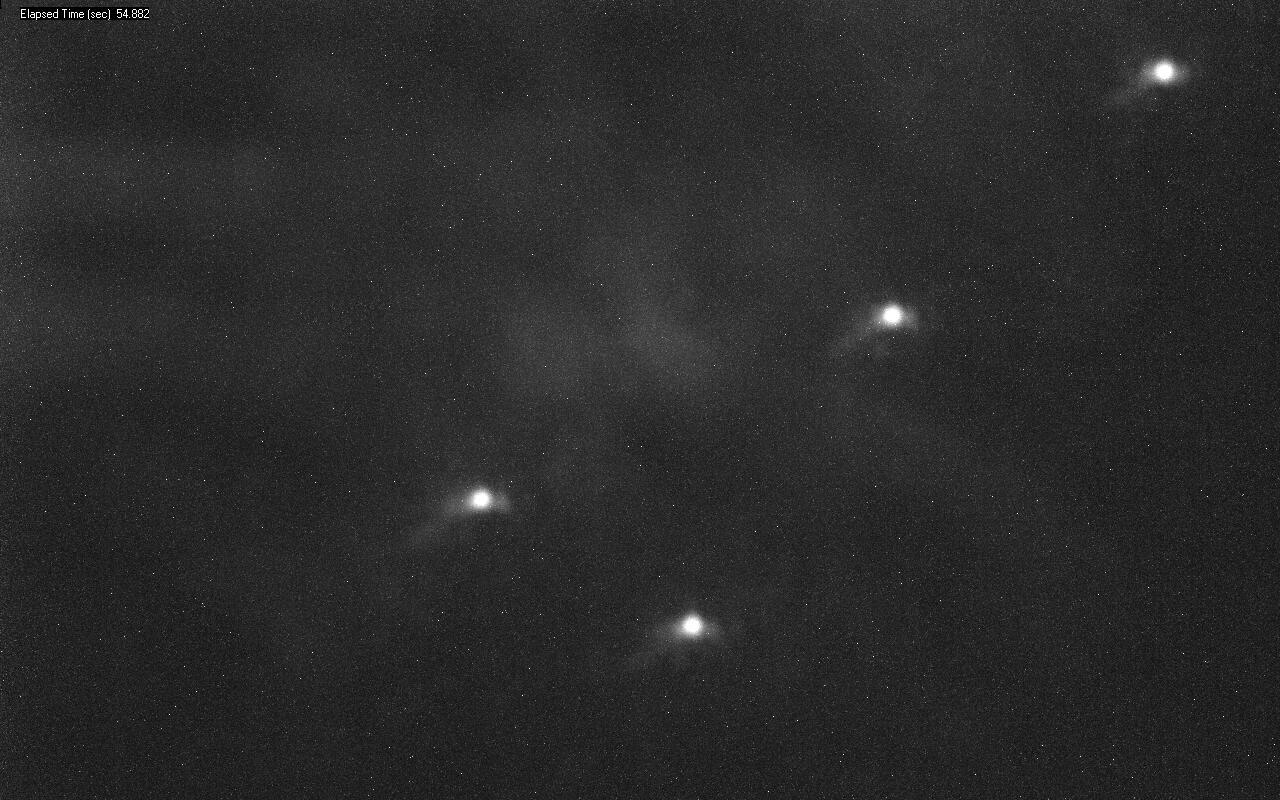Bead: (873, 302, 910, 332), (1143, 59, 1184, 86), (466, 487, 499, 512), (675, 612, 704, 636)
